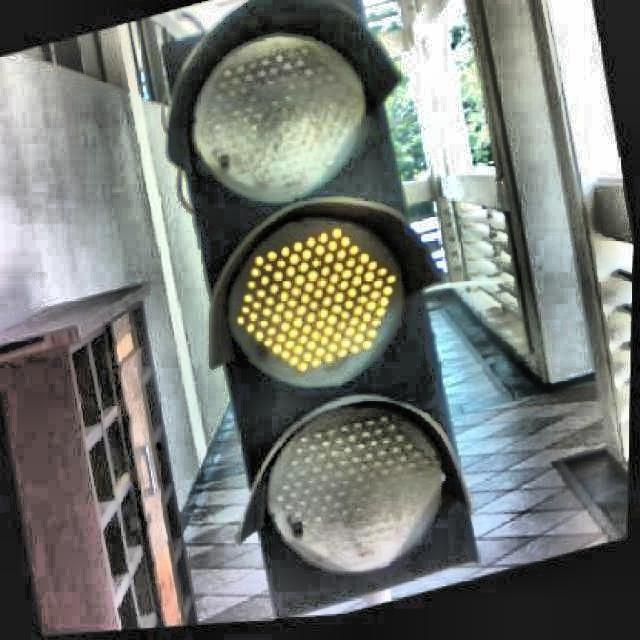yellow: (172, 34, 474, 578)
